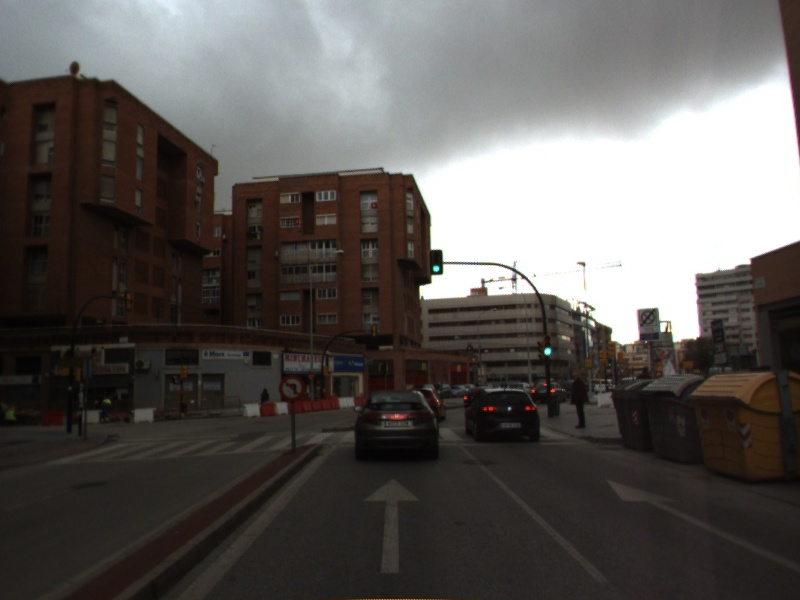STRAIGHT: (602, 475, 800, 571), (361, 476, 423, 576)
